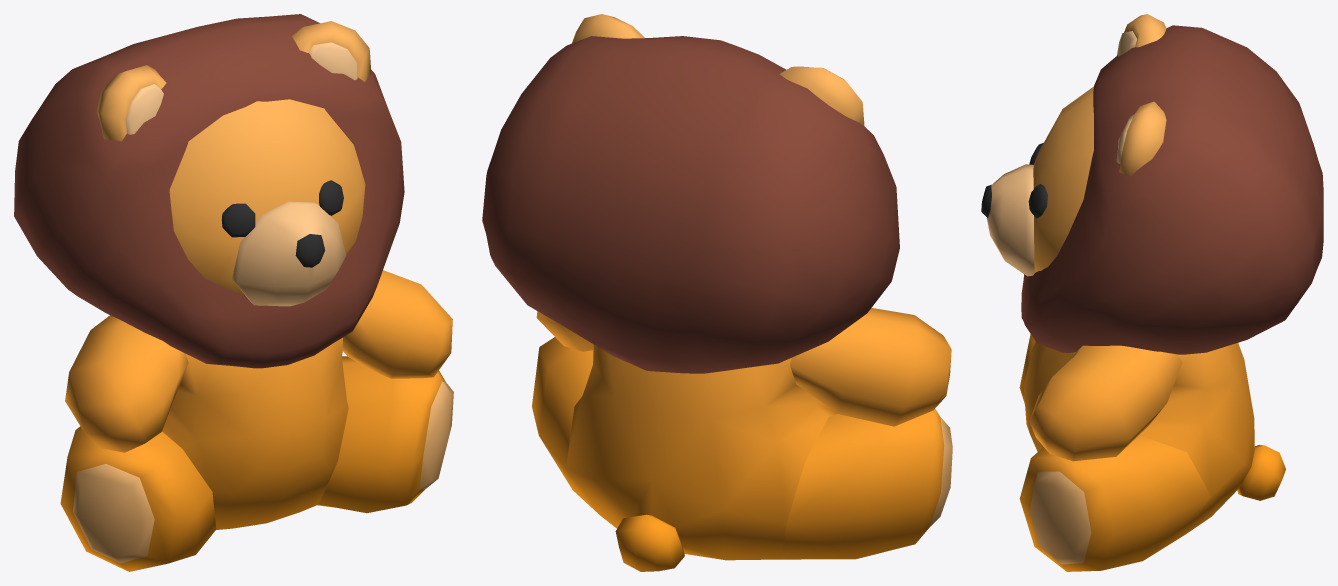
The model's file is Lion_01.fbx.
3 renders of one model, left to right at view 1: azimuth 30°, elevation 25°; view 2: azimuth 150°, elevation 25°; view 3: azimuth 270°, elevation 25°, orthographic. The views are drawn at different scales.
Parts seen in each view (by area): view 1: Lion_01; view 2: Lion_01; view 3: Lion_01.
Part boxes in pixels (x1=…): Lion_01: x1=14, y1=14, x2=453, y2=571; Lion_01: x1=482, y1=14, x2=952, y2=571; Lion_01: x1=981, y1=14, x2=1323, y2=571.
Bounding box in the file's own units: 32.81 × 27.06 × 39.74.
